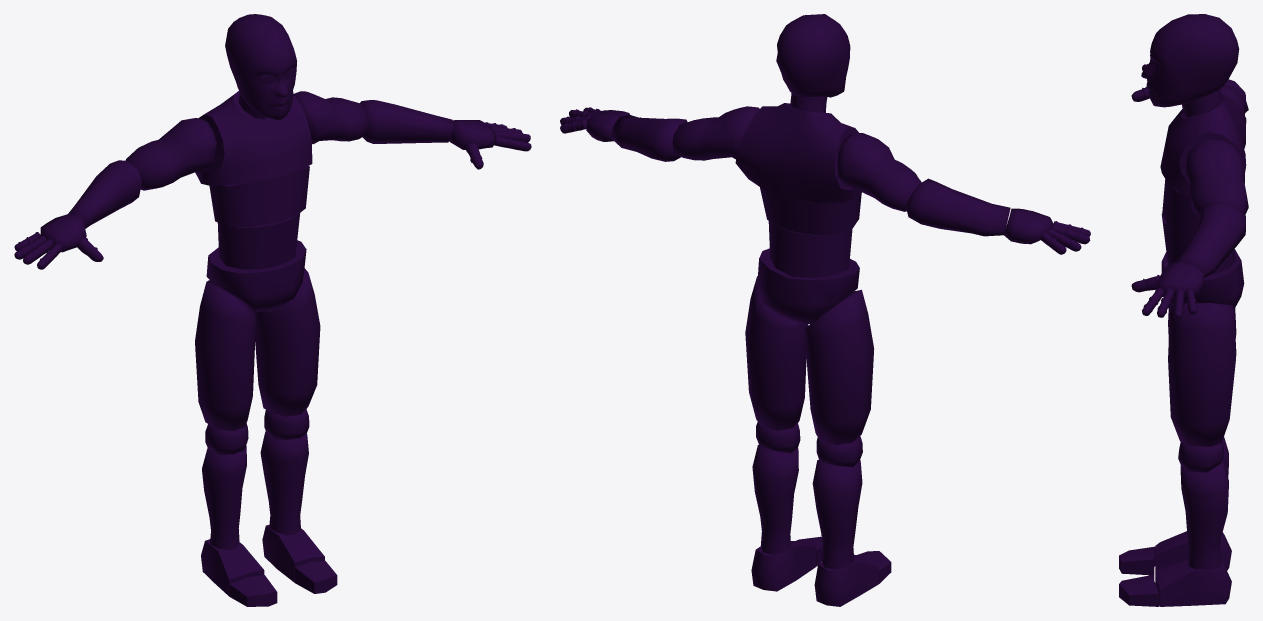
The model's file is dummy.glb.
3 renders of one model, left to right at view 1: azimuth 30°, elevation 25°; view 2: azimuth 150°, elevation 25°; view 3: azimuth 270°, elevation 25°, orthographic. The views are drawn at different scales.
Visible parts, largest first — view 1: node_id4; view 2: node_id4; view 3: node_id4.
Part boxes in pixels (x1,y1,x2,y2): node_id4: (14,14,531,606); node_id4: (560,14,1090,606); node_id4: (1119,14,1248,606).
Bounding box in the file's own units: 0.4916 × 0.512 × 0.1064.
Materials: 1 (1 with a texture image).
